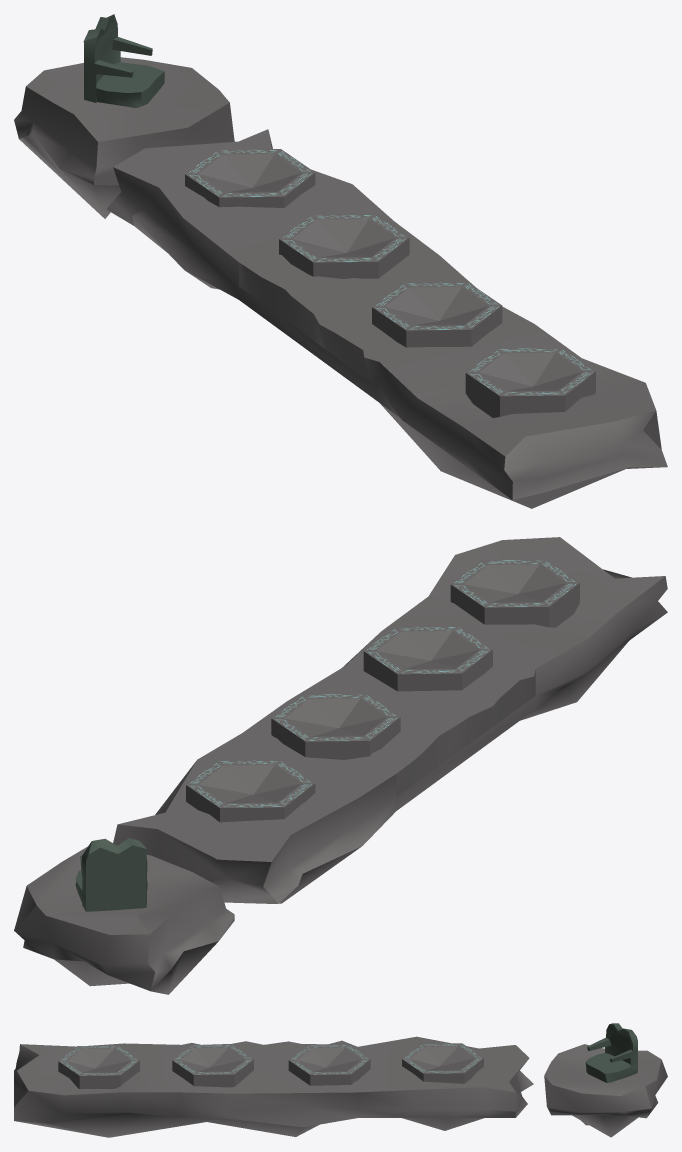
File: inventory_new.fbx
The picture shows the model from 3 angles, top to bottom: view 1: azimuth 30°, elevation 25°; view 2: azimuth 150°, elevation 25°; view 3: azimuth 270°, elevation 25°; orthographic projection. The views are drawn at different scales.
Visible parts, largest first — view 1: polySurface5, pasted__pCube2, pasted__polySurface2, polySurface2, polySurface3, polySurface4, Chair; view 2: polySurface5, pasted__pCube2, pasted__polySurface2, polySurface2, polySurface3, polySurface4, Chair; view 3: polySurface5, pasted__pCube2, pasted__polySurface2, polySurface2, polySurface3, polySurface4, Chair.
Boxes of the visible parts, x1,y1,x2,y2 form: polySurface5: (106, 129, 667, 508); pasted__pCube2: (14, 57, 234, 218); pasted__polySurface2: (465, 347, 595, 417); polySurface2: (372, 282, 502, 347); polySurface3: (279, 214, 409, 278); polySurface4: (185, 149, 315, 207); Chair: (83, 14, 164, 107); polySurface5: (113, 537, 667, 903); pasted__pCube2: (14, 846, 234, 994); pasted__polySurface2: (450, 559, 579, 627); polySurface2: (363, 626, 492, 691); polySurface3: (271, 693, 400, 759); polySurface4: (186, 760, 315, 822); Chair: (75, 838, 147, 911); polySurface5: (14, 1036, 533, 1137); pasted__pCube2: (544, 1044, 667, 1137); pasted__polySurface2: (58, 1045, 139, 1089); polySurface2: (172, 1044, 253, 1087); polySurface3: (288, 1044, 370, 1085); polySurface4: (402, 1043, 483, 1083); Chair: (585, 1023, 637, 1082).
Bounding box in the file's own units: 2.48 × 2.14 × 11.85.
5 materials, 2 textured.
